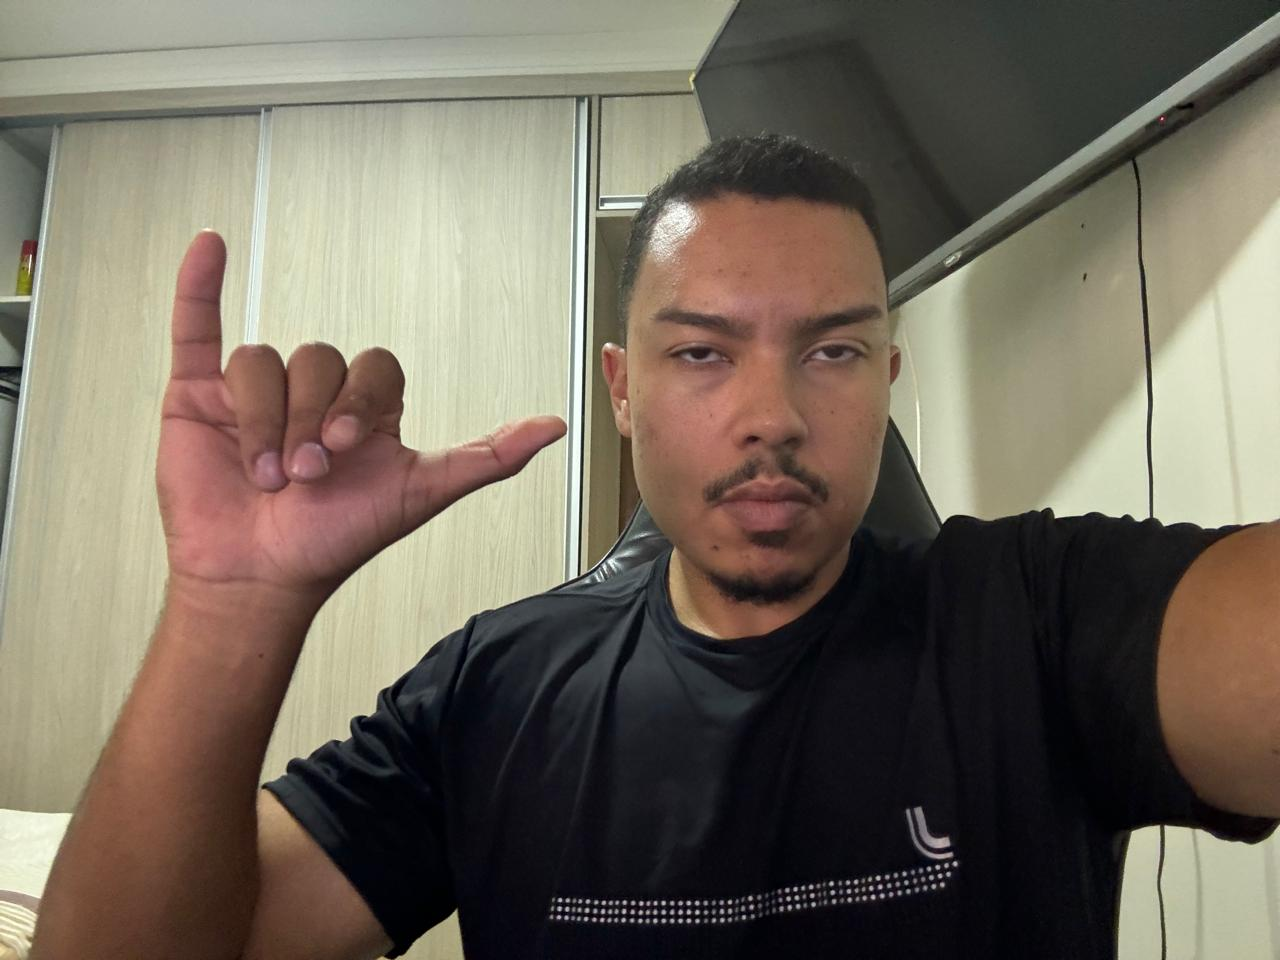y: (151, 224, 571, 605)
